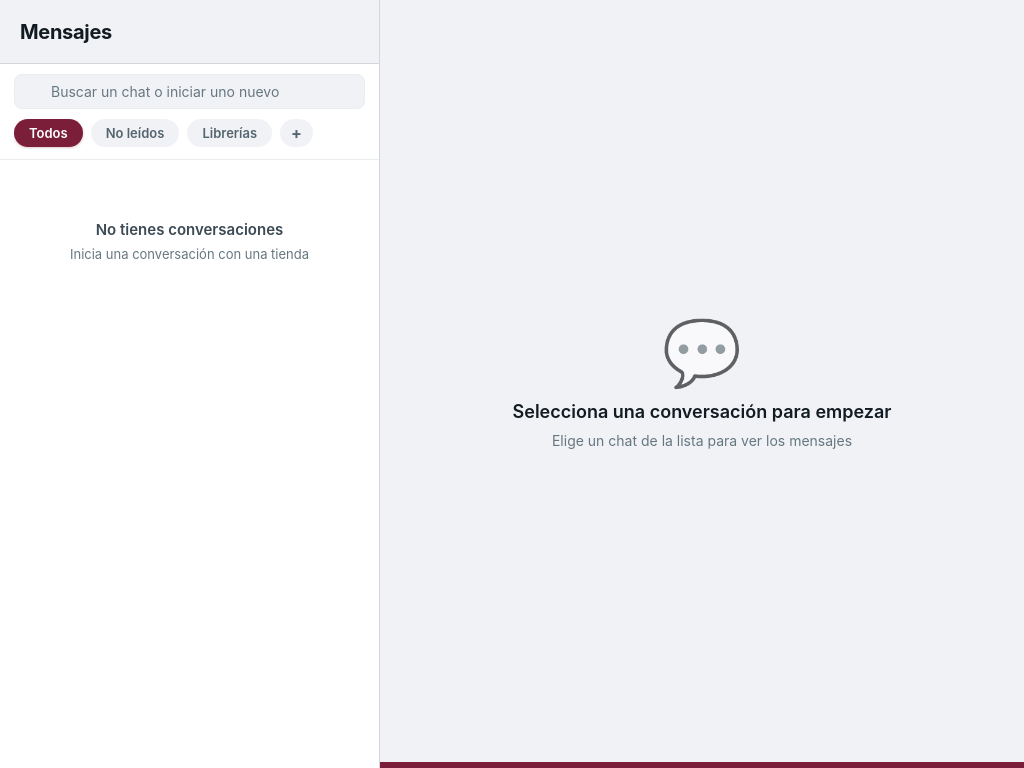
Test: Chat (frontend) — pantalla › carga el estado vacío y permite buscar conversaciones
Expected: the text "No tienes conversaciones" is shown, [96,220,283,239]
Type "sin coincidencia" into the field with placeholder "Buscar un chat o iniciar uno nuevo".
click(190, 92); type("sin coincidencia")  # box [14,74,365,109]
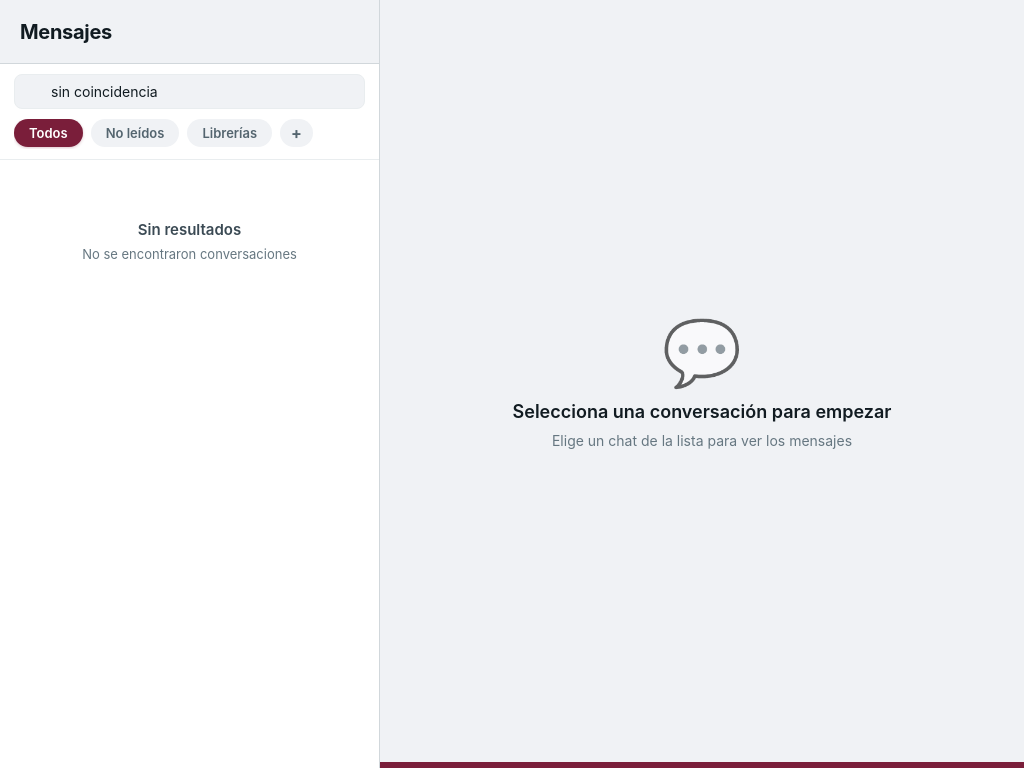
Now the text "Sin resultados" is shown, box [138,220,241,239]
Now the text "No se encontraron conversaciones" is shown, box [82,246,297,262]
